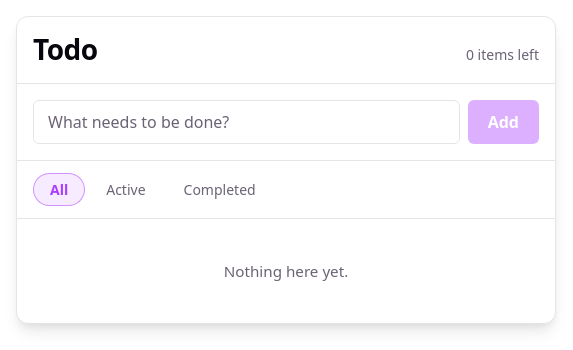
Test case: App › deletes a todo
The image size is (573, 350).
In the field: x=246, y=122 [33, 100, 460, 144], type "Buy milk"
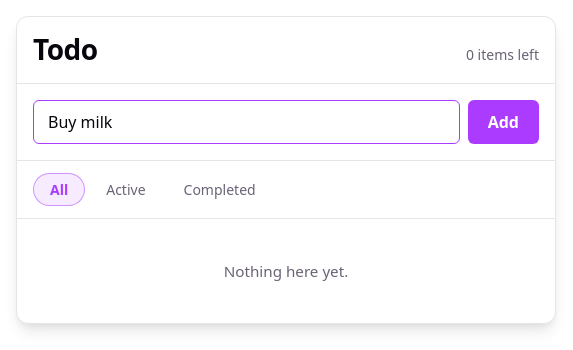
Click the button "Add": x=503, y=122 [468, 100, 539, 144]
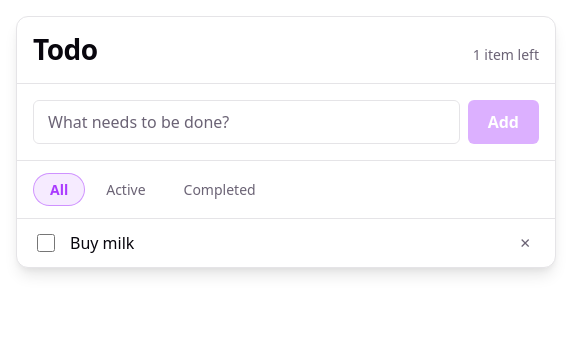
Click the button named "delete \"Buy milk\"": x=525, y=243 [512, 231, 539, 255]
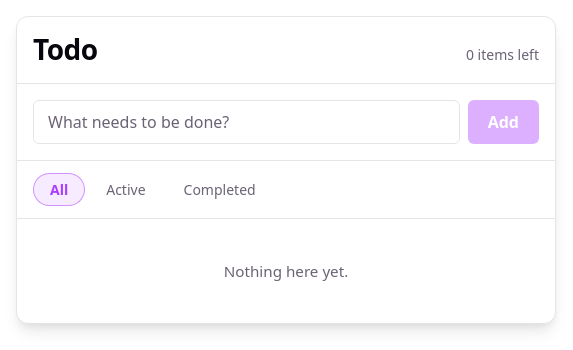
Expected: the text "Buy milk" is gone
